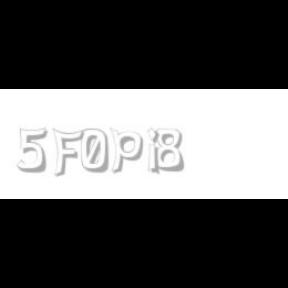0: (80, 128, 112, 174)
5: (16, 128, 48, 174)
8: (154, 128, 184, 172)
F: (52, 128, 84, 178)
i: (147, 128, 163, 176)
p: (110, 128, 146, 174)
